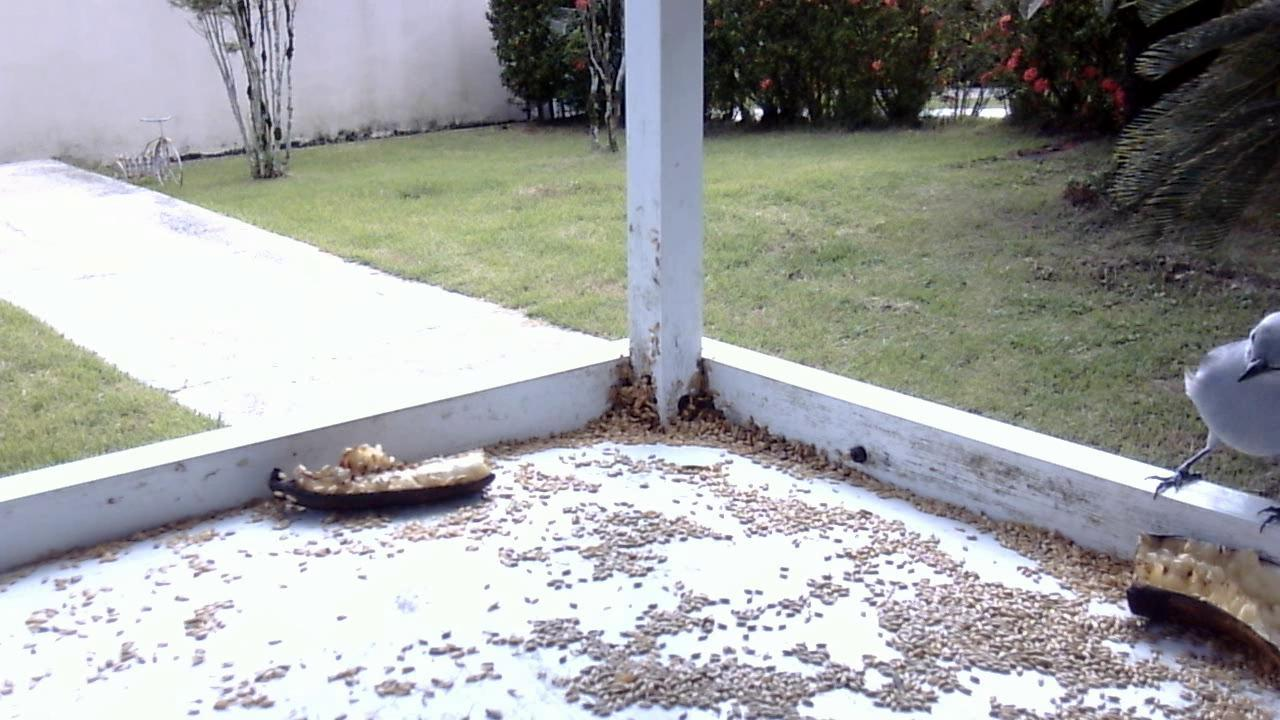sanhaco_da_amazonia: (1141, 300, 1280, 546)
